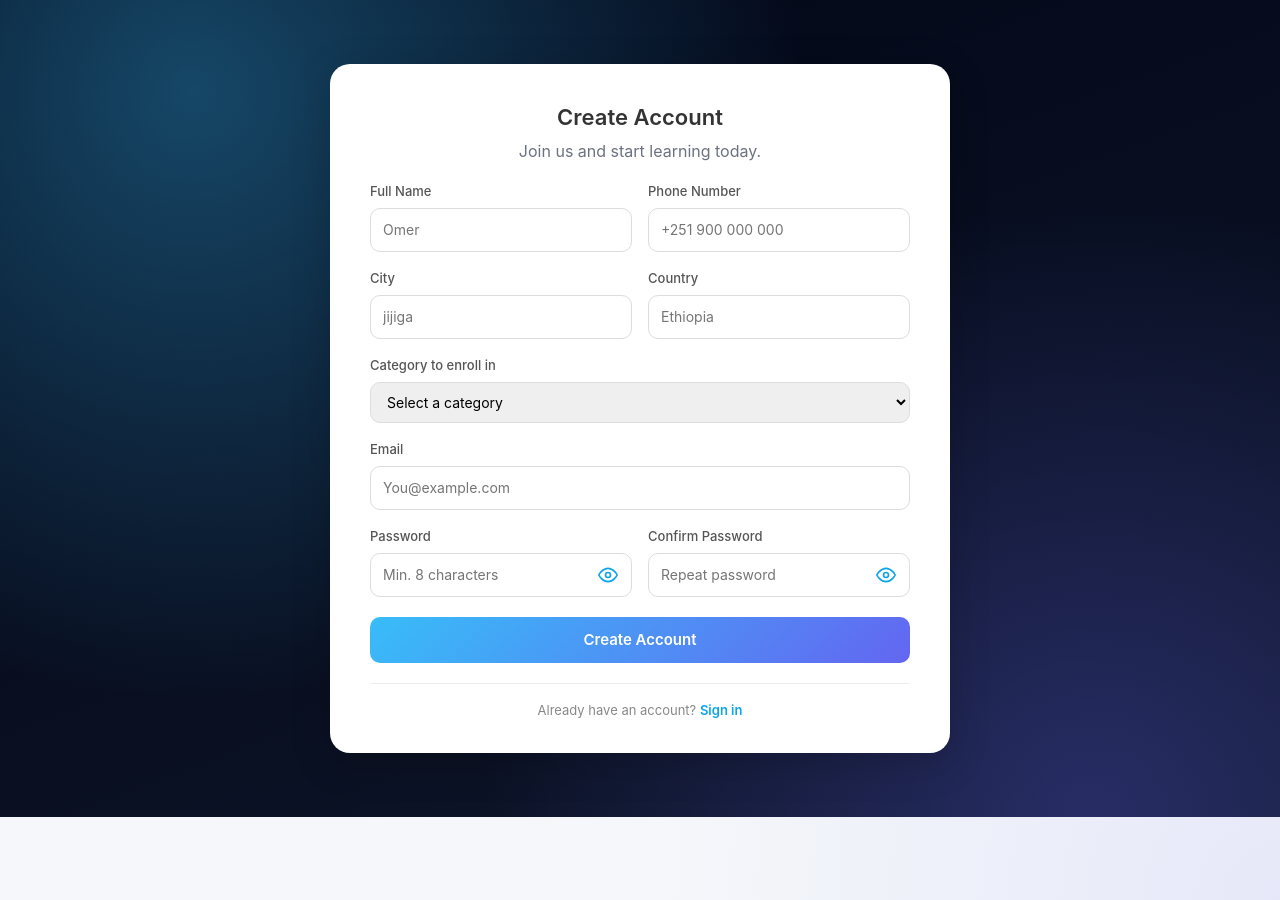
Test: Register › field validation on empty submit › shows all required-field errors when the form is submitted empty
Click the button "Create Account" at (640, 640), box [370,617,910,663]
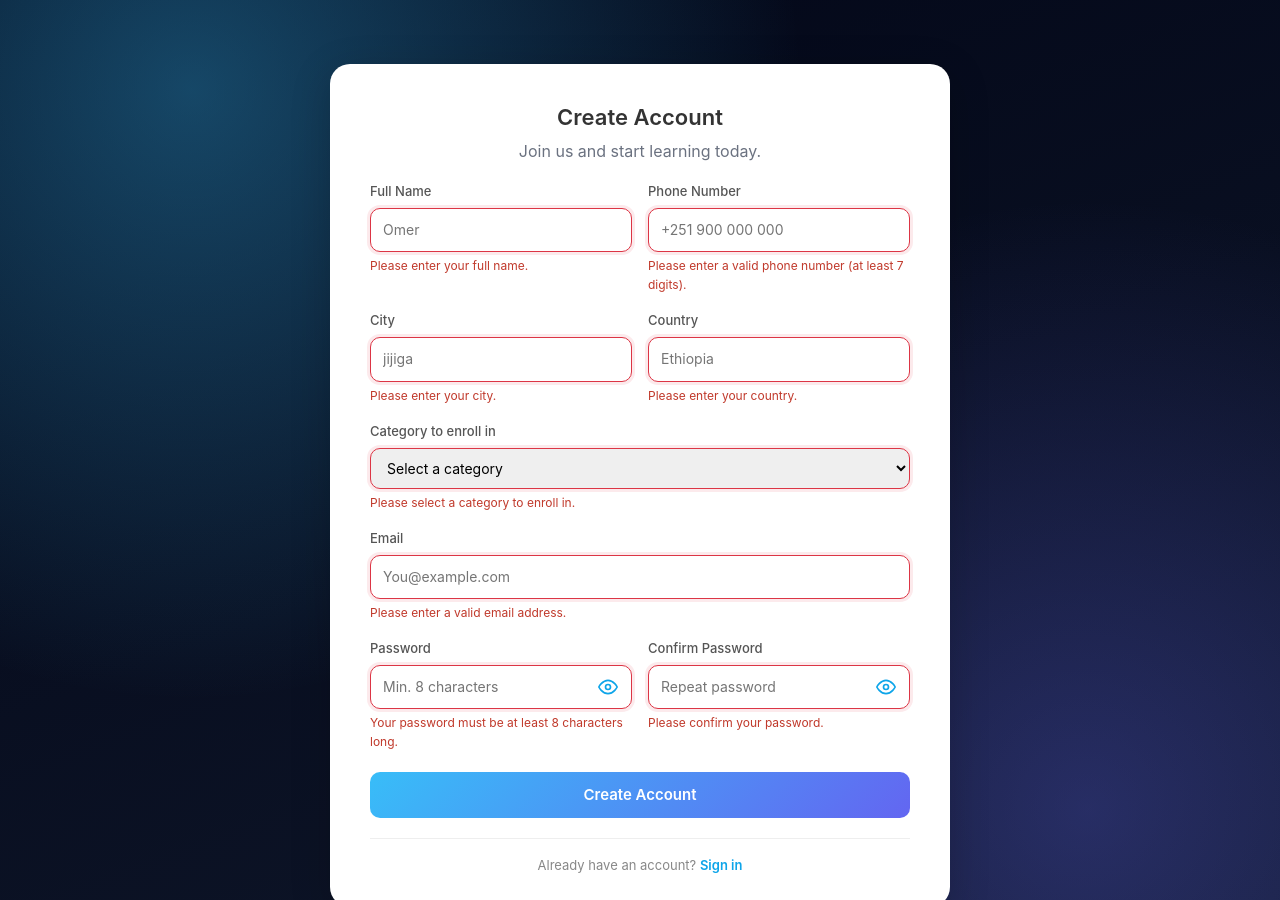
Expected: the text "Please enter your full name." is shown, [370,258,528,273]
Expected: the text "Please enter a valid phone number (at least 7 digits)." is shown, [648,256,910,294]
Expected: the text "Please enter your city." is shown, [370,388,496,402]
